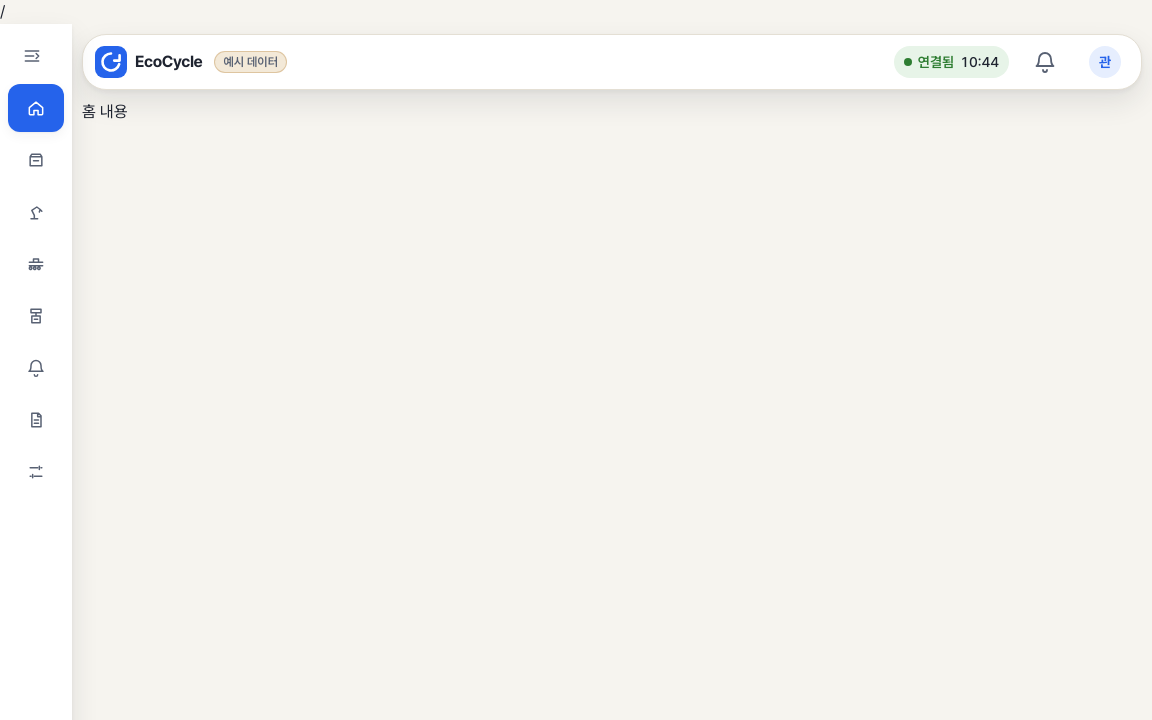
it: RequireAuth › 로그아웃하면 로그인 화면으로 간다
Click the button named "메뉴": (1105, 62) [1081,38,1129,86]
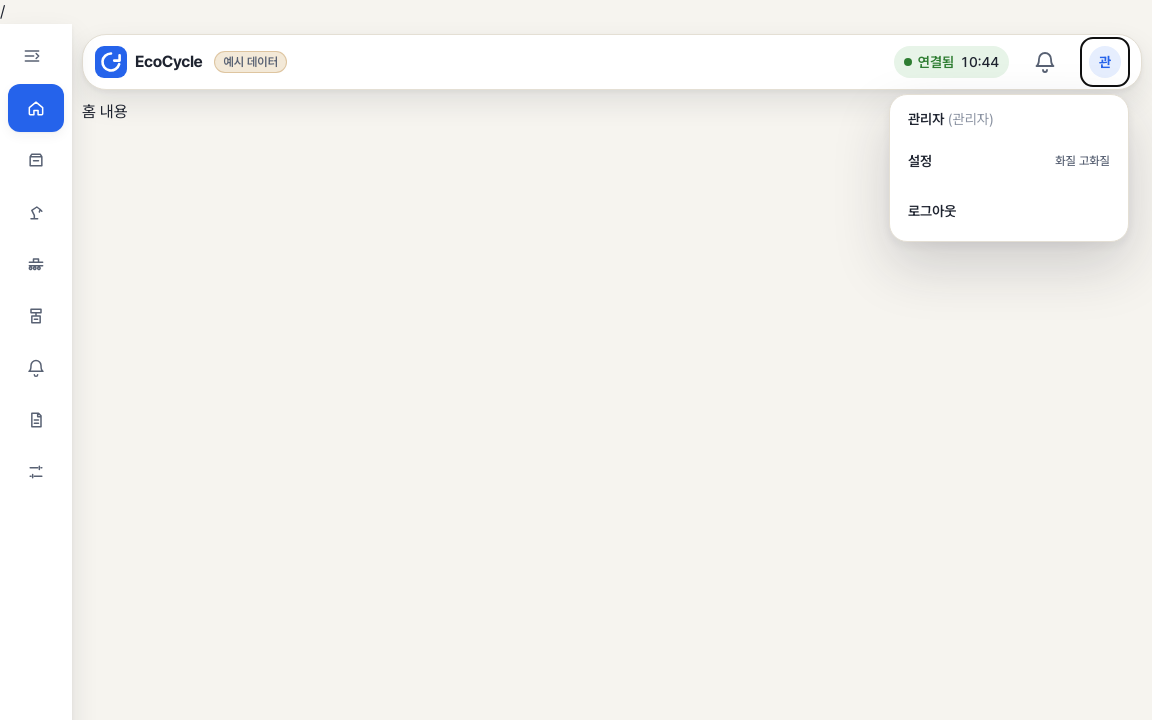
Click the menu item "로그아웃": (1009, 211) [896,187,1122,235]
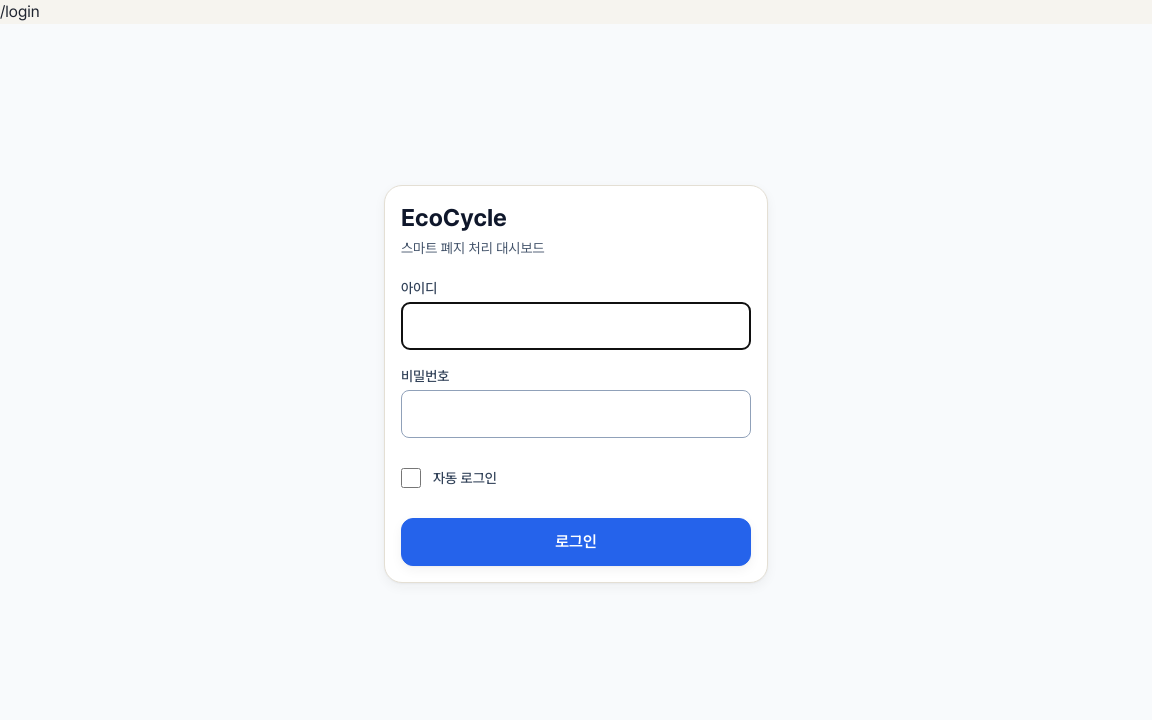
Expected: the text with test id "where" reads "/login", [0,2,40,21]
